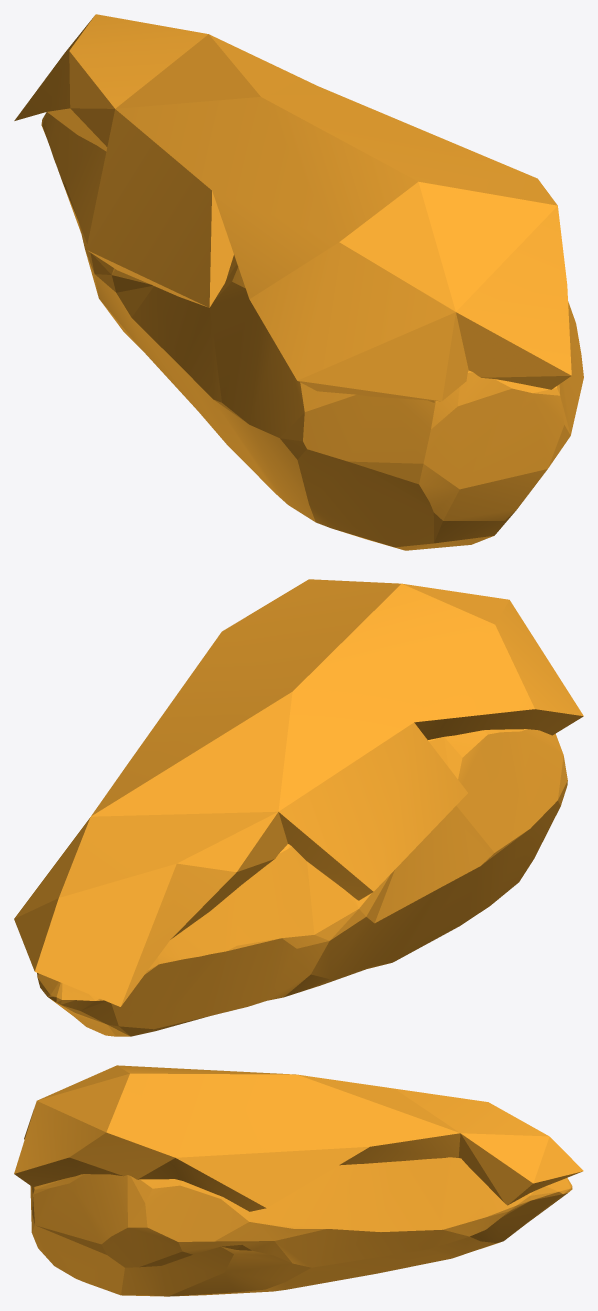
Rendered from SM_Menhir_D_Horizontal_Snow.fbx.
The picture shows the model from 3 angles, top to bottom: view 1: azimuth 30°, elevation 25°; view 2: azimuth 150°, elevation 25°; view 3: azimuth 270°, elevation 25°; orthographic projection. The views are drawn at different scales.
Visible parts, largest first — view 1: menhir-d-horizontal-snow; view 2: menhir-d-horizontal-snow; view 3: menhir-d-horizontal-snow.
Part boxes in pixels (bbox=[...]): menhir-d-horizontal-snow: bbox=[14, 14, 583, 550]; menhir-d-horizontal-snow: bbox=[14, 579, 583, 1036]; menhir-d-horizontal-snow: bbox=[14, 1065, 583, 1296].
Size of the model in its own units: 2.06 by 2.06 by 5.14.
